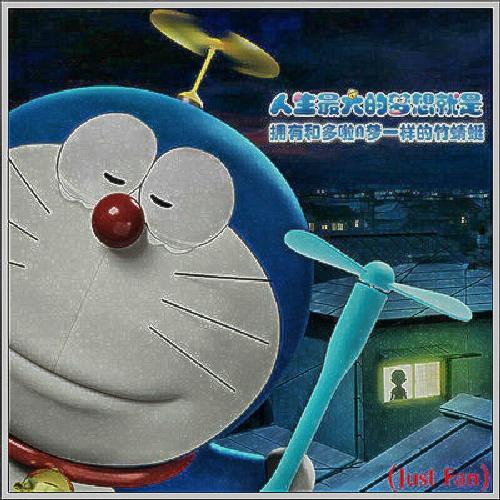fan: (256, 221, 466, 479)
